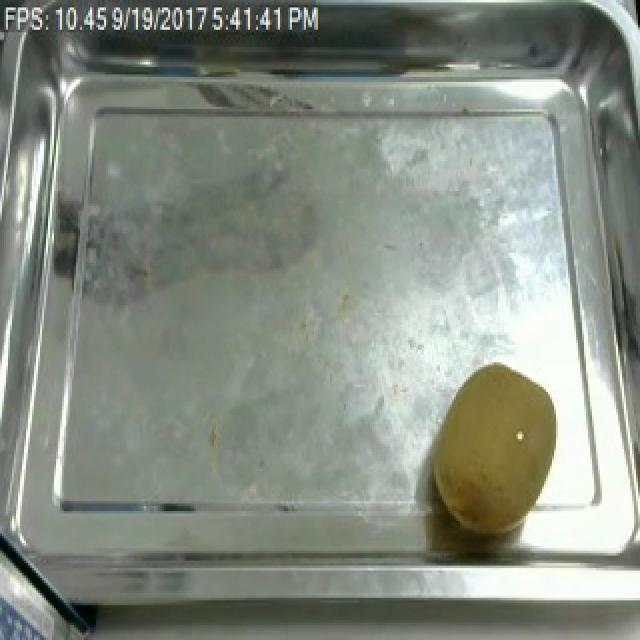Fruit: (422, 357, 568, 543)
